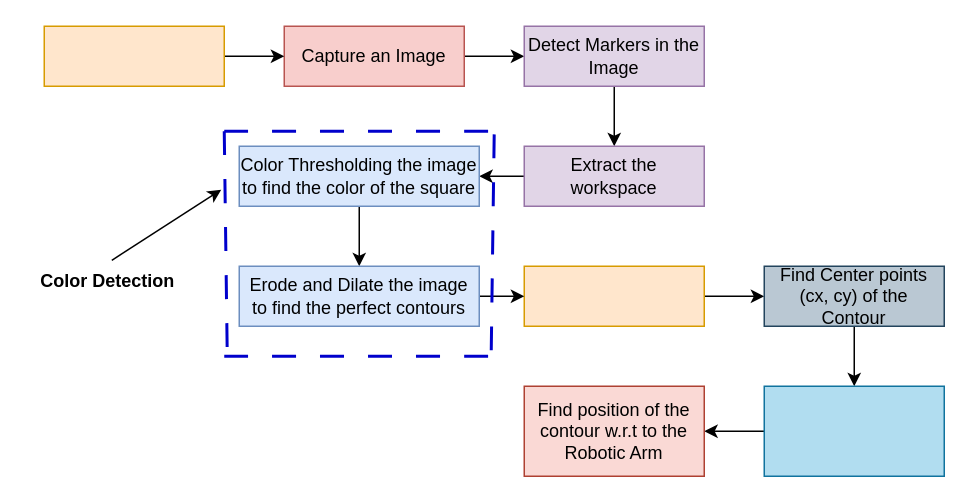
This 971x503 diagram has some shape labels left out. The centre of each missing label's shape, as x and y in pixels:
Find Contours in the extracted workspace: the point at 613,295
Find position of the contour in the workspace (cx_rel, cy_rel): the point at 853,430
Object present in the workspace: the point at 133,55
